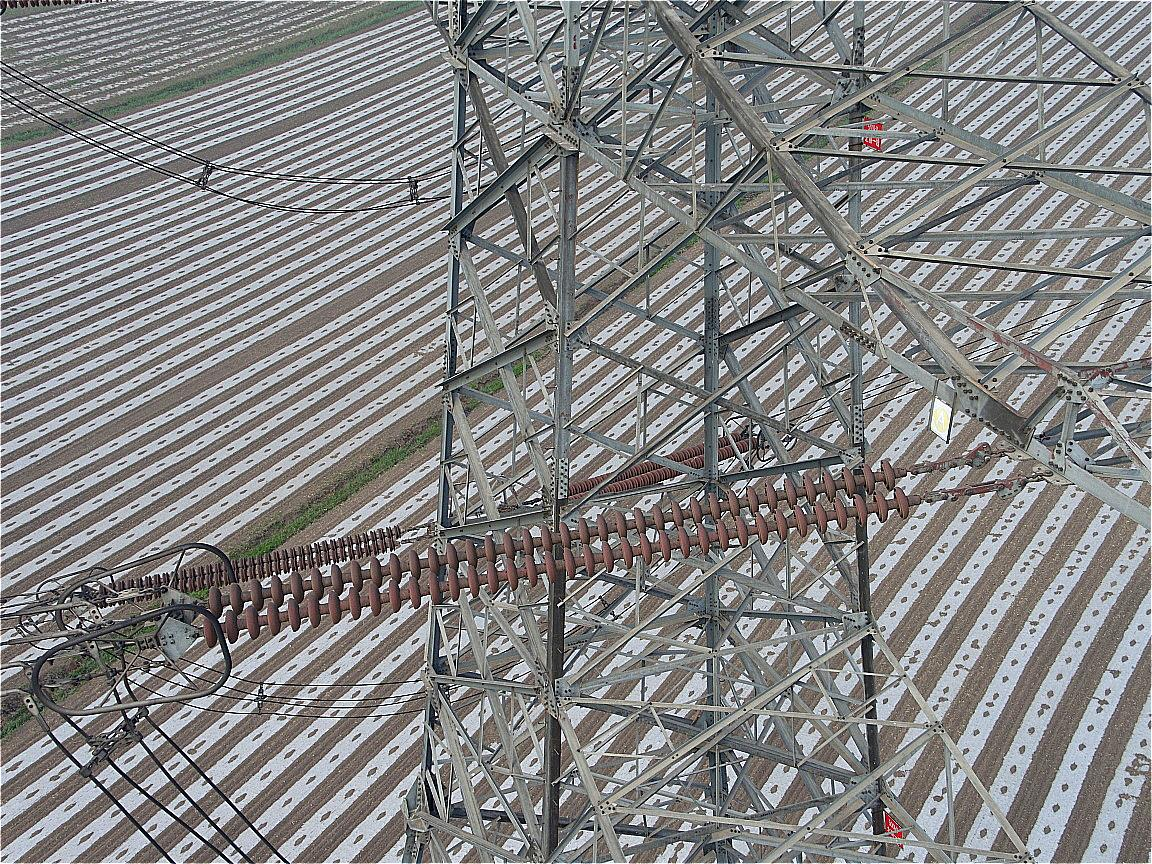insultor1: (203, 460, 911, 649)
insultor2: (99, 523, 405, 610), (570, 433, 757, 503)
